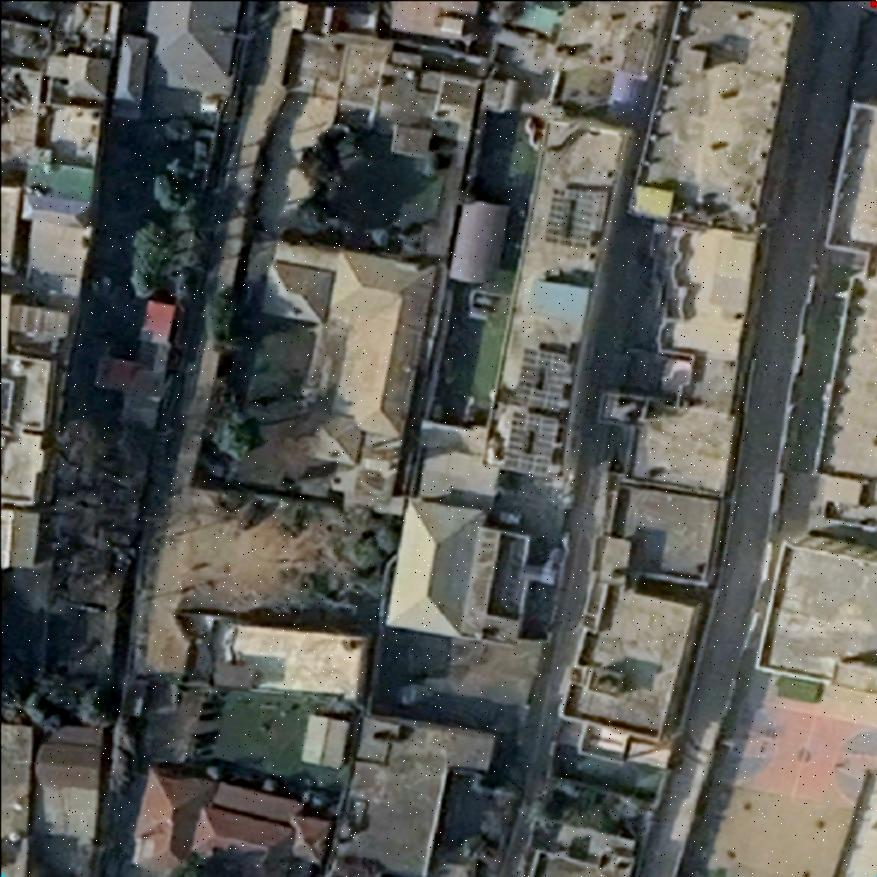Solarpanel: (543, 185, 604, 249), (502, 409, 560, 475), (514, 346, 572, 412)
